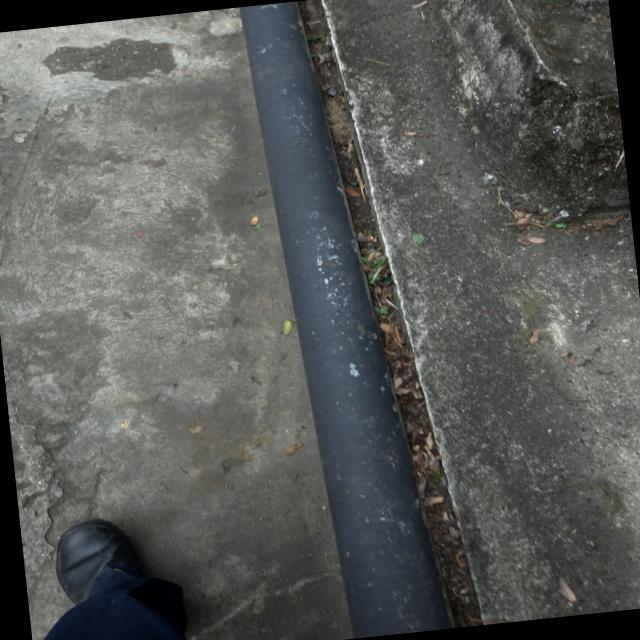gas: (237, 0, 453, 638)
